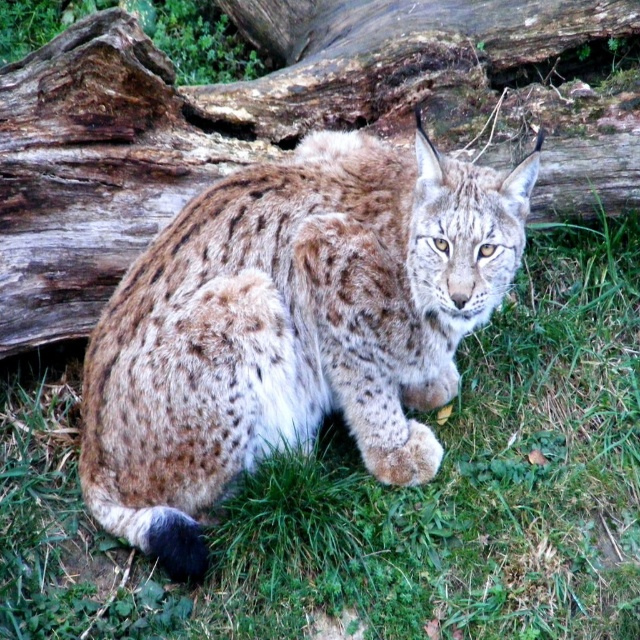Lynx: (78, 127, 540, 591)
